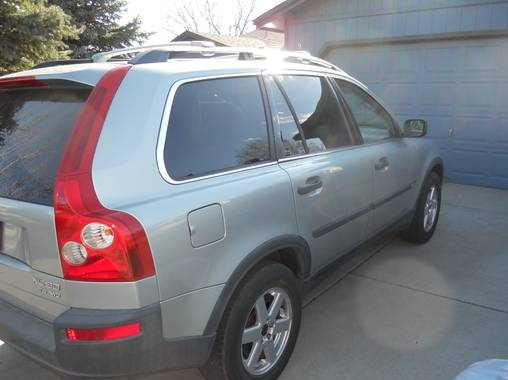volvo: (1, 42, 476, 380)
